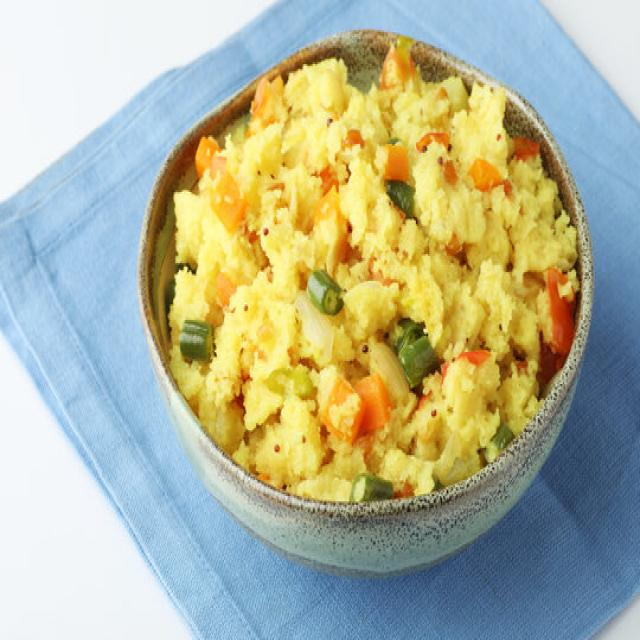UPMA: (169, 39, 580, 501)
